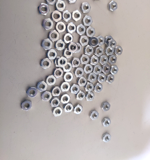nut: (48, 30, 60, 42), (40, 58, 52, 70), (36, 81, 48, 92), (38, 4, 50, 15), (66, 22, 77, 34), (55, 39, 66, 51), (26, 87, 39, 97), (21, 100, 32, 111), (55, 0, 66, 11), (42, 19, 53, 30), (41, 39, 52, 50), (41, 91, 52, 102), (49, 97, 60, 108), (75, 91, 86, 102), (81, 2, 91, 14), (62, 10, 72, 22), (72, 10, 82, 22), (58, 56, 68, 68), (46, 50, 58, 60), (108, 1, 118, 12), (101, 101, 111, 112), (102, 117, 112, 128), (90, 110, 100, 121), (64, 33, 74, 44), (52, 107, 63, 117), (70, 84, 80, 95), (56, 22, 66, 33), (51, 11, 62, 21), (76, 24, 86, 35), (64, 48, 74, 59), (73, 42, 83, 53), (46, 75, 56, 86), (63, 72, 73, 83), (60, 83, 71, 93), (85, 92, 95, 103), (102, 133, 112, 143), (83, 16, 93, 26), (52, 87, 62, 97), (80, 55, 90, 65), (61, 94, 71, 104), (86, 27, 96, 37), (74, 68, 84, 78), (79, 36, 89, 46), (71, 58, 81, 68), (62, 63, 72, 73), (93, 65, 103, 75), (94, 82, 103, 93), (55, 57, 64, 68), (106, 74, 115, 85), (78, 76, 87, 87), (74, 105, 83, 115), (85, 45, 94, 55), (54, 68, 63, 78), (88, 73, 97, 83), (97, 74, 107, 83), (65, 103, 73, 114), (97, 36, 105, 47), (95, 47, 104, 56), (84, 65, 93, 74), (90, 37, 99, 46), (109, 55, 118, 64), (106, 47, 115, 56), (108, 40, 117, 49), (105, 36, 114, 45), (85, 83, 94, 92), (115, 46, 123, 56), (100, 55, 108, 65), (70, 42, 78, 52), (91, 55, 99, 65), (111, 66, 119, 75), (103, 65, 111, 73), (68, 0, 78, 5), (46, 0, 56, 5)
